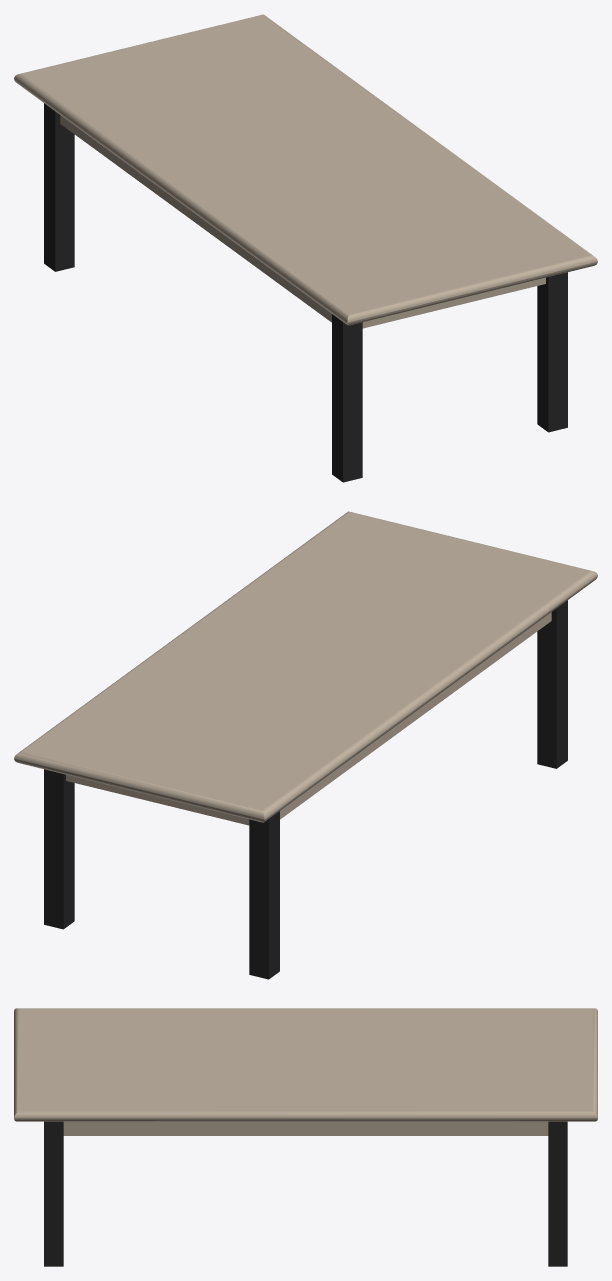
File: GrandeTable_41.fbx
3 views of the same model, one above another, from view 1: azimuth 30°, elevation 25°; view 2: azimuth 150°, elevation 25°; view 3: azimuth 270°, elevation 25° (orthographic). The views are drawn at different scales.
Visible parts, largest first — view 1: pCube80, pCube82, pCube81, pCube83; view 2: pCube80, pCube83, pCube84, pCube82; view 3: pCube80, pCube84, pCube81.
Boxes of the visible parts, bbox=[...] form: pCube80: bbox=[14, 14, 597, 328]; pCube82: bbox=[332, 314, 362, 482]; pCube81: bbox=[537, 272, 567, 432]; pCube83: bbox=[44, 103, 74, 271]; pCube80: bbox=[14, 511, 597, 825]; pCube83: bbox=[249, 811, 279, 979]; pCube84: bbox=[44, 769, 74, 929]; pCube82: bbox=[537, 600, 567, 768]; pCube80: bbox=[14, 1008, 597, 1135]; pCube84: bbox=[548, 1121, 567, 1266]; pCube81: bbox=[44, 1121, 63, 1266].
Bounding box in the file's own units: 57.3 × 39.63 × 132.
